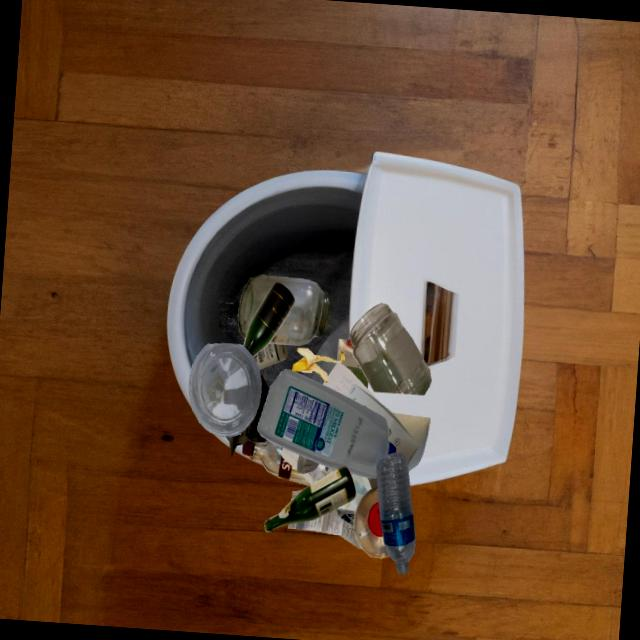biowaste: (291, 347, 344, 382)
cardboard: (392, 412, 430, 471), (337, 337, 367, 388)
glass: (349, 303, 431, 395), (237, 274, 329, 345), (264, 466, 355, 531), (243, 282, 294, 357), (242, 440, 310, 485), (253, 343, 286, 369), (297, 454, 319, 473)
paper: (310, 420, 388, 482), (225, 370, 269, 457), (288, 509, 360, 548), (334, 472, 377, 529), (325, 362, 378, 400), (345, 383, 393, 420), (388, 414, 418, 464)
plastic: (257, 369, 395, 478), (188, 343, 261, 436), (376, 452, 415, 574), (353, 487, 389, 558)
